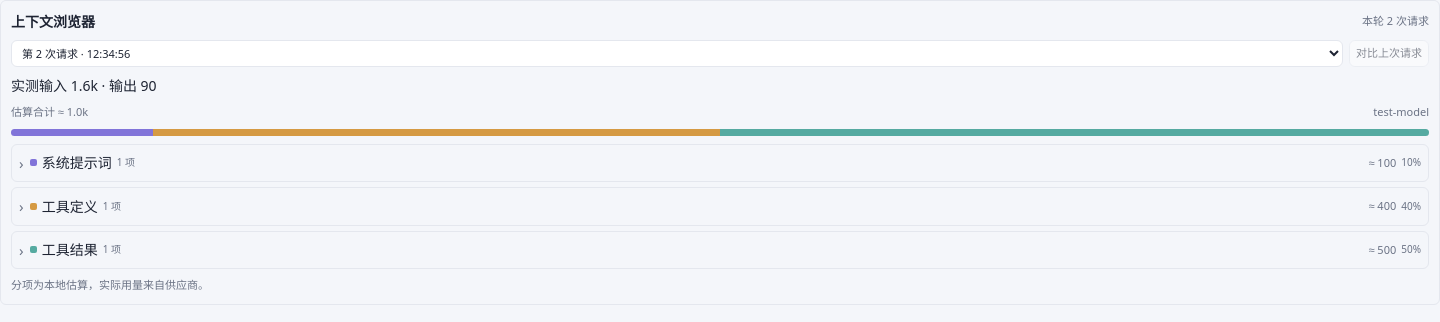
it: RequestContextBrowser › 旧请求没有摘要时不借用最新摘要，缺失和部分实测不会伪造成零
Select "第 1 次请求 · 12:34:56" in the dropdown at (677, 54), box [11,40,1343,67]
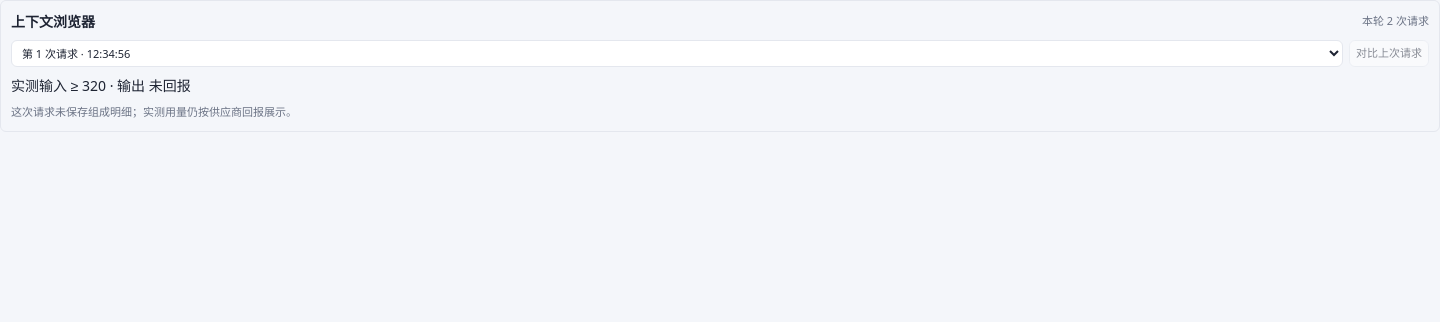
Expected: the text "实测输入 ≥ 320 · 输出 未回报" is shown, [11,76,191,95]
Expected: the text "这次请求未保存组成明细；实测用量仍按供应商回报展示。" is shown, [11,104,297,119]
Expected: the heading "工具结果" is gone
